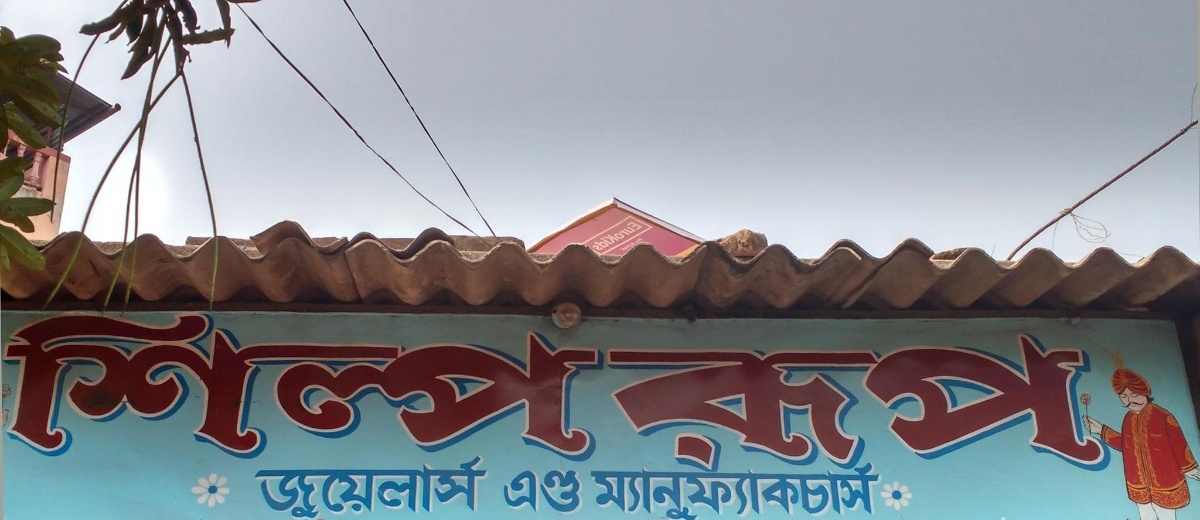text: (17, 306, 32, 474), (33, 306, 48, 474), (49, 306, 64, 474), (65, 306, 80, 474), (81, 306, 96, 474), (97, 306, 112, 474), (113, 306, 128, 474), (129, 306, 144, 474), (145, 306, 160, 474), (161, 306, 176, 474), (177, 306, 192, 474), (193, 306, 208, 474), (209, 306, 224, 474), (225, 306, 240, 474), (241, 306, 256, 474), (257, 306, 272, 474), (273, 306, 288, 474), (289, 306, 304, 474), (305, 306, 320, 474), (321, 306, 336, 474), (337, 306, 352, 474), (353, 306, 368, 474), (369, 306, 384, 474), (385, 306, 400, 474), (401, 306, 416, 474), (417, 306, 432, 474), (433, 306, 448, 474), (449, 306, 464, 474), (465, 306, 480, 474), (481, 306, 496, 474), (497, 306, 512, 474), (513, 306, 528, 474), (529, 306, 544, 474), (545, 306, 560, 474), (561, 306, 576, 474), (577, 306, 592, 474), (593, 306, 608, 474), (609, 306, 624, 474), (625, 306, 640, 474), (641, 306, 656, 474), (657, 306, 672, 474), (673, 306, 688, 474), (689, 306, 704, 474), (705, 306, 720, 474), (721, 306, 736, 474), (737, 306, 752, 474), (753, 306, 768, 474), (769, 306, 784, 474), (785, 306, 800, 474), (801, 306, 816, 474), (817, 306, 832, 474), (833, 306, 848, 474), (849, 306, 864, 474), (865, 306, 880, 474), (881, 306, 896, 474), (897, 306, 912, 474), (913, 306, 928, 474), (929, 306, 944, 474), (945, 306, 960, 474), (961, 306, 976, 474), (977, 306, 992, 474), (993, 306, 1008, 474), (1009, 306, 1024, 474), (1025, 306, 1040, 474), (1041, 306, 1056, 474), (1057, 306, 1072, 474), (1073, 306, 1088, 474), (1089, 306, 1104, 474), (1105, 306, 1119, 474), (5, 306, 16, 474), (257, 454, 272, 518), (273, 454, 288, 518), (289, 454, 304, 518), (305, 454, 320, 518), (321, 454, 336, 518), (337, 454, 352, 518), (353, 454, 368, 518), (369, 454, 384, 518), (385, 454, 400, 518), (401, 454, 416, 518), (417, 454, 432, 518), (433, 454, 448, 518), (449, 454, 464, 518), (465, 454, 480, 518), (593, 463, 608, 519), (609, 463, 624, 519), (625, 463, 640, 519), (641, 463, 656, 519), (657, 463, 672, 519), (673, 463, 688, 519), (689, 463, 704, 519), (705, 463, 720, 519), (721, 463, 736, 519), (737, 463, 752, 519), (753, 463, 768, 519), (769, 463, 784, 519), (785, 463, 800, 519), (801, 463, 816, 519), (817, 463, 832, 519), (833, 463, 848, 519), (849, 463, 864, 519), (865, 463, 880, 519), (513, 467, 528, 513), (529, 467, 544, 513), (545, 467, 560, 513), (561, 467, 576, 513), (481, 454, 489, 518), (504, 467, 512, 513), (577, 467, 585, 513), (591, 463, 592, 519), (881, 463, 882, 519)
